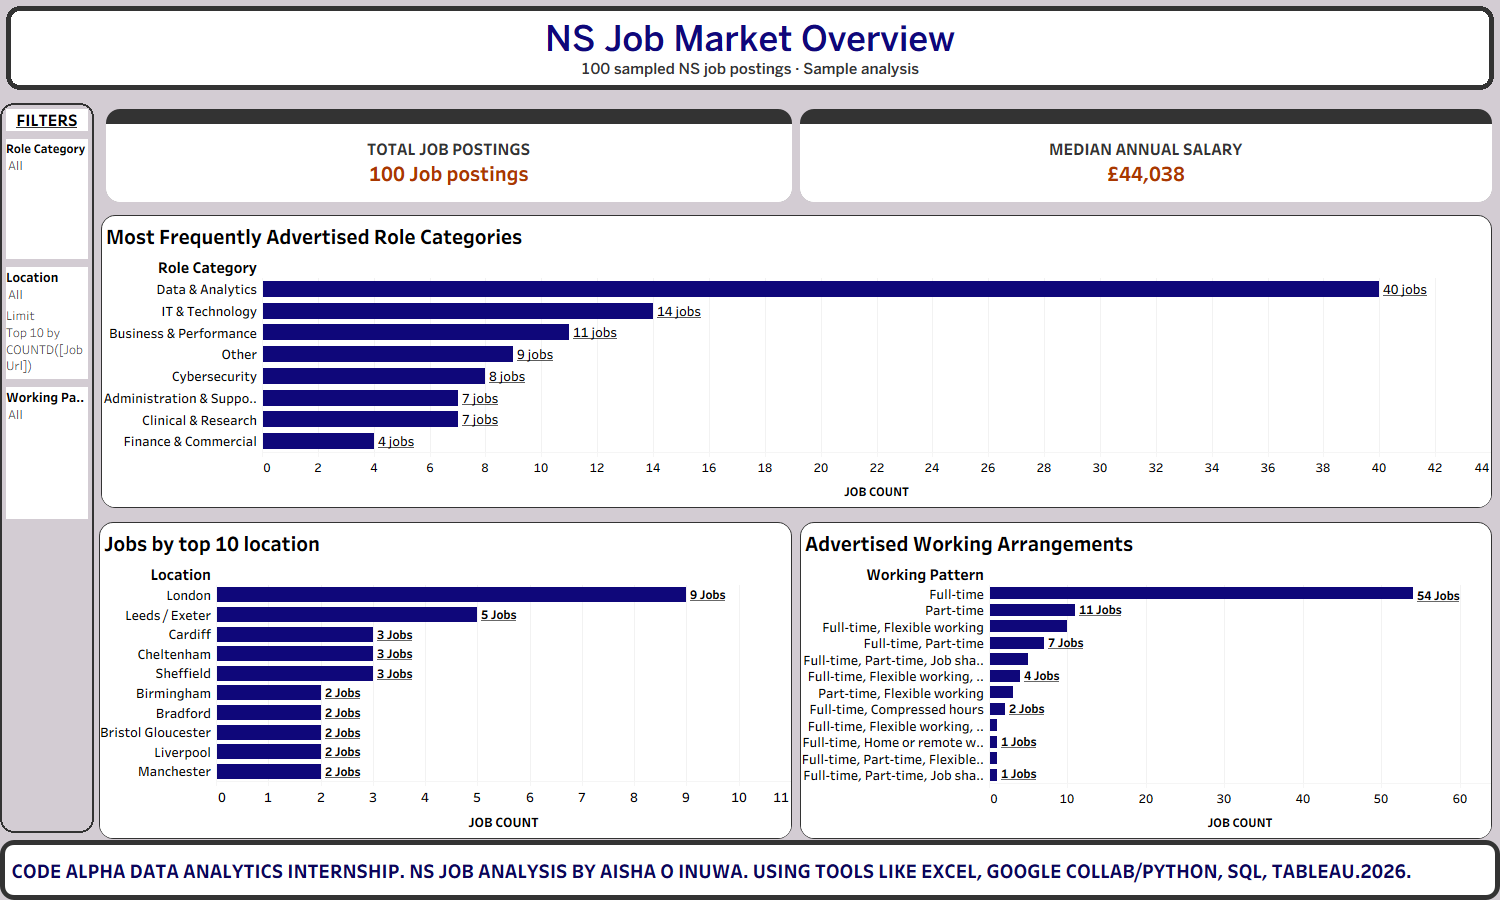

This screenshot's page, from the dashboard's own definition file:
{"tool":"tableau","page":{"name":"01 - NS Job Market Overview","canvas":[1500,900],"ordinal":0},"visuals":[{"type":"text","box":[0,0,1500,96]},{"type":"text","box":[2,105,90,30]},{"type":"worksheet","title":"KPI - Total Jobs.","mark":"Automatic","box":[96,105,700,101]},{"type":"worksheet","title":"KPI - Median Annual Salary","mark":"Automatic","box":[796,105,700,101]},{"type":"filter","title":"Role Demand","param":"[federated.1nn643n09ulxx41ei394o1m8o3l9].[none:role_category:nk]","box":[2,135,90,178]},{"type":"worksheet","title":"Role Demand","mark":"Automatic","rows":["role_category"],"cols":["job_url"],"box":[97,211,1399,301]},{"type":"filter","title":"Jobs by Location","param":"[federated.1nn643n09ulxx41ei394o1m8o3l9].[none:location:nk]","box":[2,313,90,96]},{"type":"filter","title":"Working Arrangements","param":"[federated.1nn643n09ulxx41ei394o1m8o3l9].[none:working_pattern:nk]","box":[2,409,90,140]},{"type":"worksheet","title":"Jobs by Location","mark":"Automatic","rows":["location"],"cols":["job_url"],"box":[95,518,701,325]},{"type":"worksheet","title":"Working Arrangements","mark":"Automatic","rows":["working_pattern"],"cols":["job_url"],"box":[796,518,700,325]},{"type":"text","box":[5,845,1490,50]}]}

Visuals, with their boxes in screenshot pixels (x1, y1, x2, y2), scaled from the page's 1500x900 canvas onto the 1500x900 screenshot:
text: crop(0, 0, 1499, 96)
text: crop(2, 105, 92, 135)
"KPI - Total Jobs." worksheet: crop(96, 105, 796, 206)
"KPI - Median Annual Salary" worksheet: crop(796, 105, 1496, 206)
"Role Demand" filter: crop(2, 135, 92, 313)
"Role Demand" worksheet: crop(97, 211, 1496, 512)
"Jobs by Location" filter: crop(2, 313, 92, 409)
"Working Arrangements" filter: crop(2, 409, 92, 549)
"Jobs by Location" worksheet: crop(95, 518, 796, 843)
"Working Arrangements" worksheet: crop(796, 518, 1496, 843)
text: crop(5, 845, 1495, 895)
